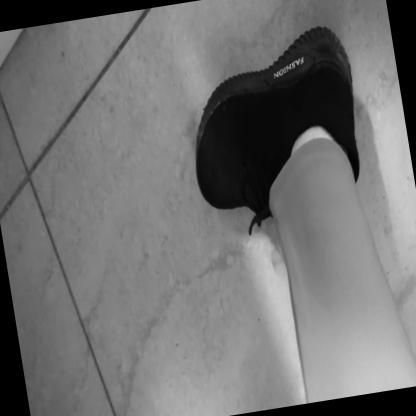ankle: (303, 134, 306, 140)
heel: (342, 83, 348, 94)
pinky: (211, 115, 214, 121)
right_foot: (176, 23, 370, 216)
toe: (216, 199, 219, 205)
